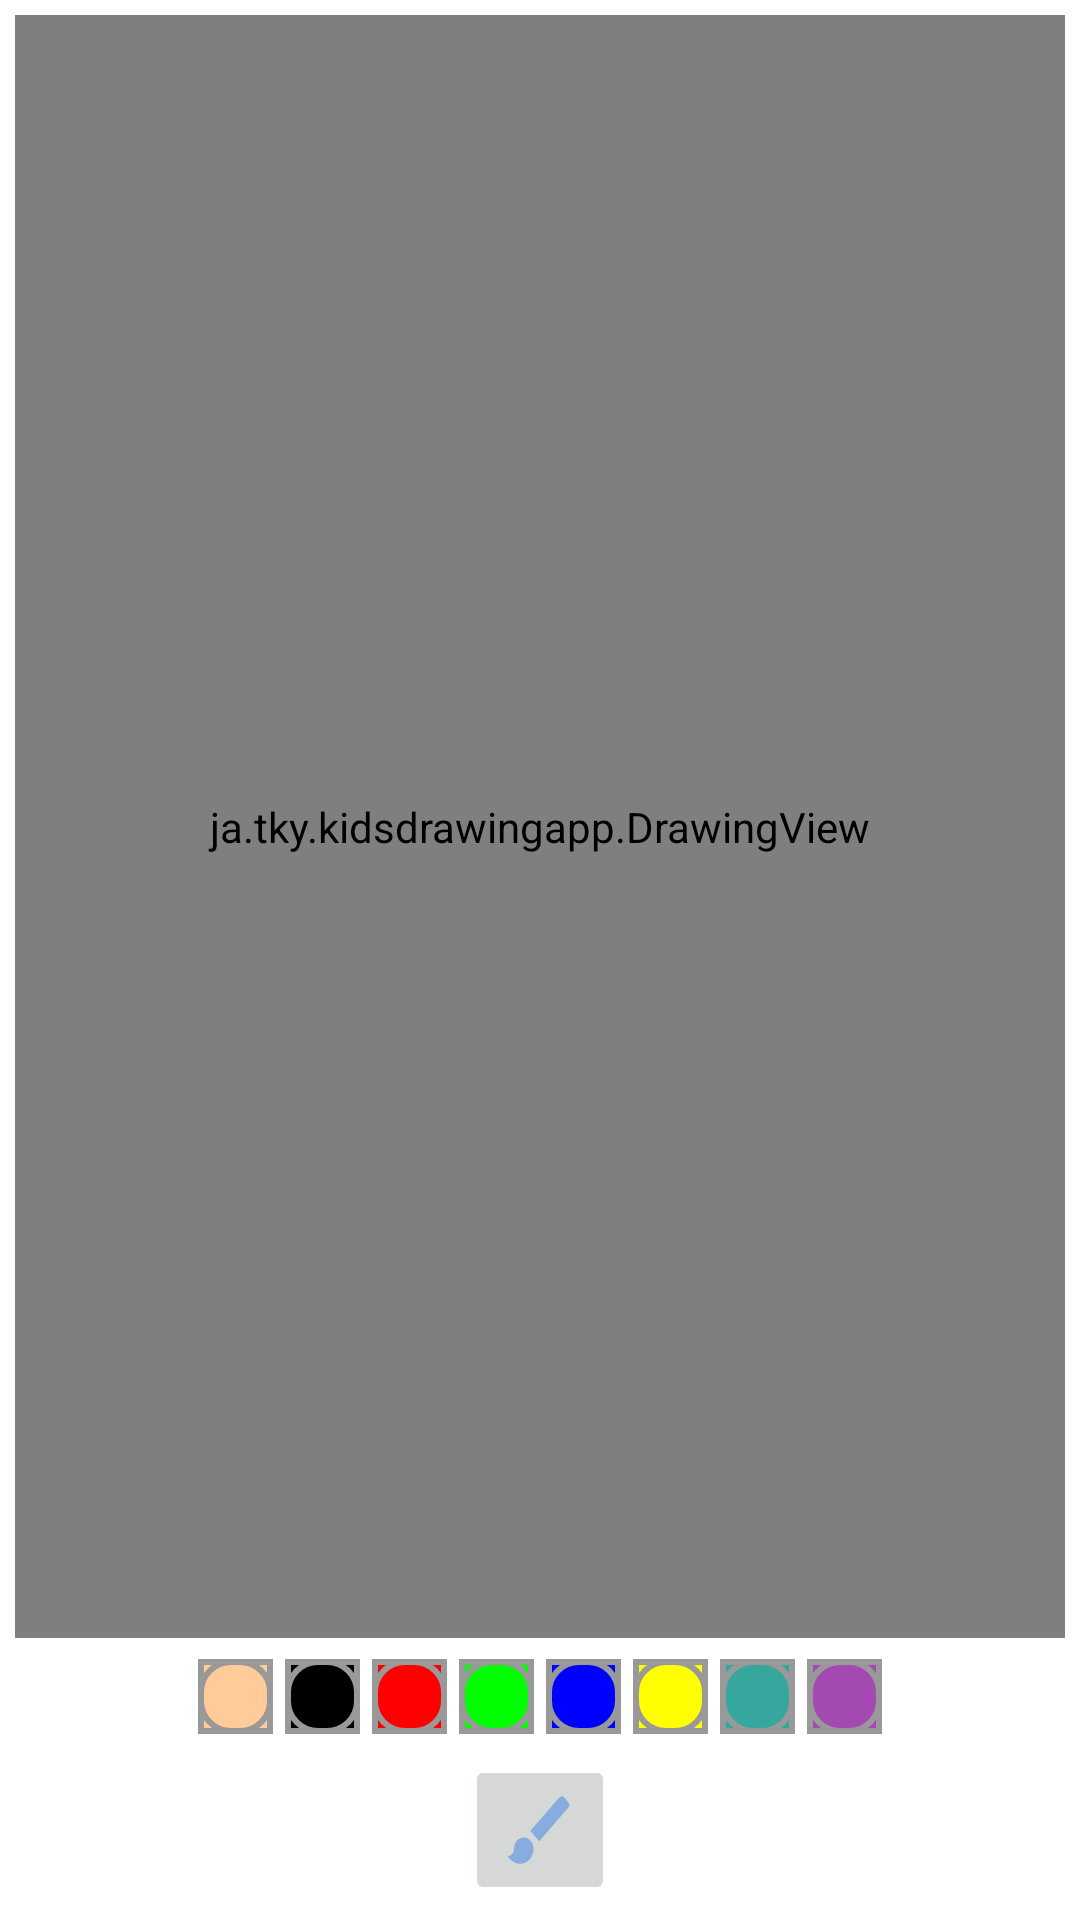

Where icons sit on this 1080 x 1920 app screen, as [x1=x1, y1=y1, x2=x2, y2=y2]:
brush: [x1=477, y1=1773, x2=603, y2=1887]
